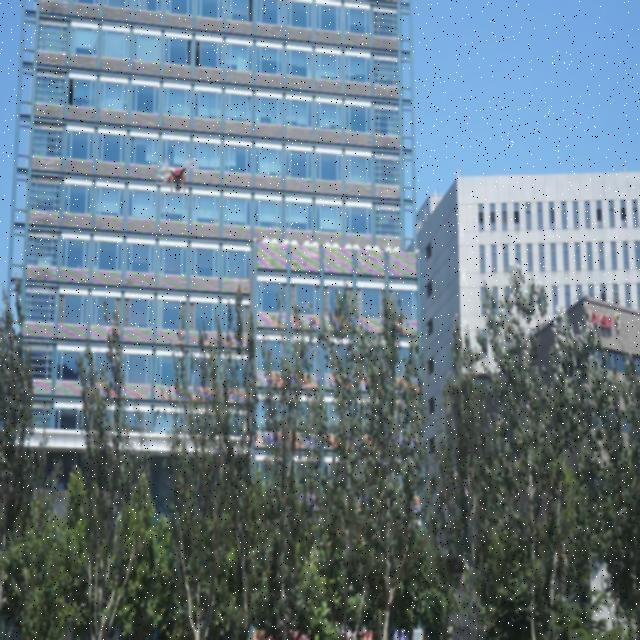UAV: (156, 158, 199, 194)
